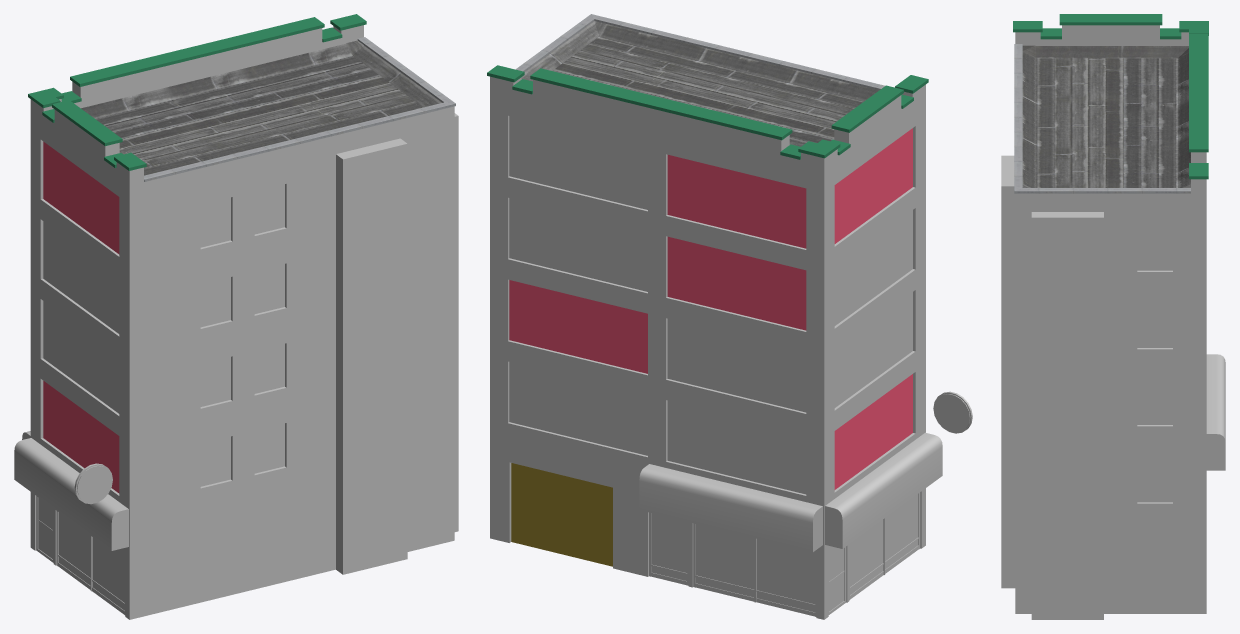
The model's file is mcp_building_35_LOD_1.FBX.
3 views of the same model, side by side, from view 1: azimuth 30°, elevation 25°; view 2: azimuth 150°, elevation 25°; view 3: azimuth 270°, elevation 25° (orthographic). The views are drawn at different scales.
Parts seen in each view (by area): view 1: mcp_building_35_walls, mcp_building_35, mcp_building_35_concrete, mcp_building_35_metal; view 2: mcp_building_35, mcp_building_35_walls, mcp_building_35_props_04, mcp_building_35_concrete, mcp_building_35_metal; view 3: mcp_building_35_walls, mcp_building_35, mcp_building_35_concrete, mcp_building_35_metal.
Part boxes in pixels (bbox=[...]): mcp_building_35_walls: bbox=[30, 25, 458, 619]; mcp_building_35: bbox=[14, 141, 284, 615]; mcp_building_35_concrete: bbox=[28, 14, 366, 170]; mcp_building_35_metal: bbox=[144, 37, 455, 181]; mcp_building_35: bbox=[509, 116, 972, 616]; mcp_building_35_walls: bbox=[490, 21, 925, 619]; mcp_building_35_props_04: bbox=[511, 463, 612, 566]; mcp_building_35_concrete: bbox=[487, 65, 928, 159]; mcp_building_35_metal: bbox=[515, 14, 885, 90]; mcp_building_35_walls: bbox=[1001, 25, 1206, 619]; mcp_building_35: bbox=[1137, 229, 1225, 502]; mcp_building_35_concrete: bbox=[1013, 14, 1208, 179]; mcp_building_35_metal: bbox=[1014, 44, 1190, 193].
Bounding box in the file's own units: 1802 × 2047 × 934.
